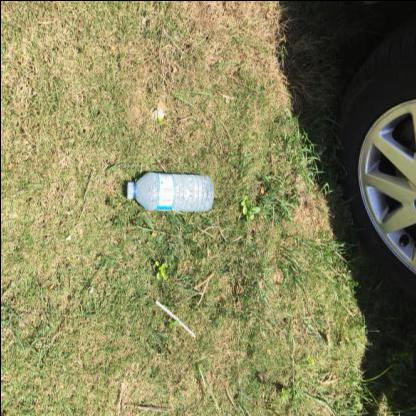Bottle: (127, 182, 132, 199)
Bottle cap: (126, 171, 213, 211)
Cigarette: (326, 332, 330, 342)
Straw: (154, 300, 195, 338)
